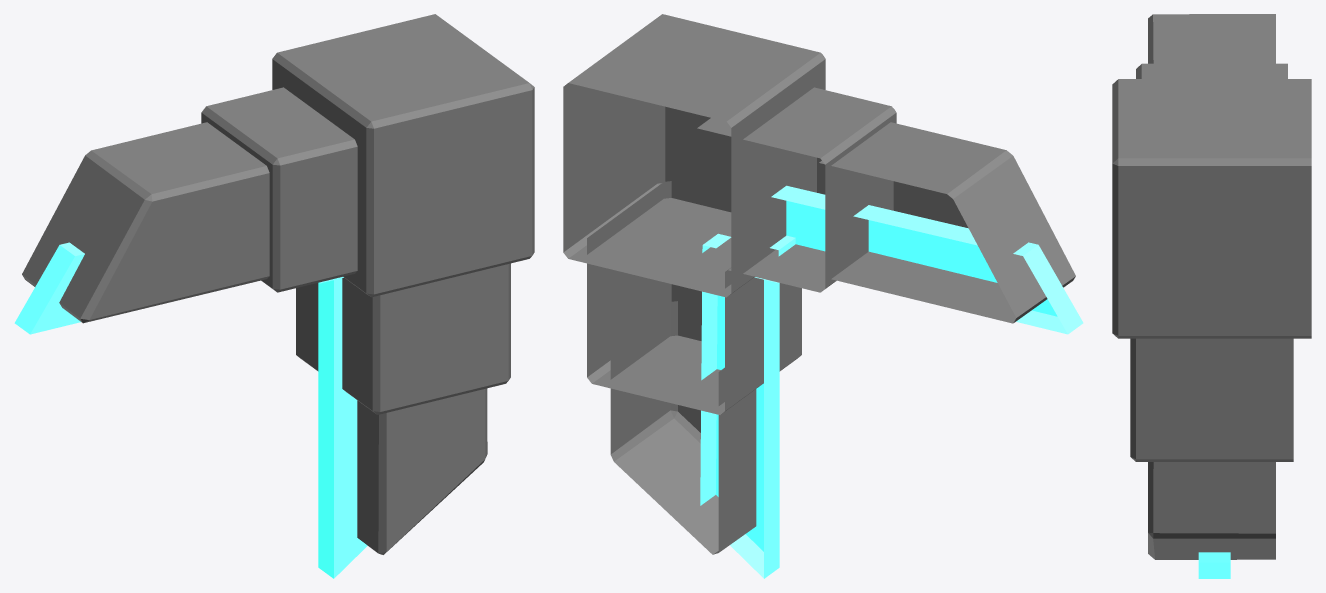
The model's file is UiCornerWidget.fbx.
3 renders of one model, left to right at view 1: azimuth 30°, elevation 25°; view 2: azimuth 150°, elevation 25°; view 3: azimuth 270°, elevation 25°, orthographic. The views are drawn at different scales.
Visible parts, largest first — view 1: pCube42; view 2: pCube42; view 3: pCube42.
Part boxes in pixels (box(x1,y1,x2,y2)): pCube42: box(14, 14, 534, 578); pCube42: box(563, 14, 1083, 578); pCube42: box(1112, 14, 1311, 578).
Size of the model in its own units: 57.51 by 57.47 by 20.78.
